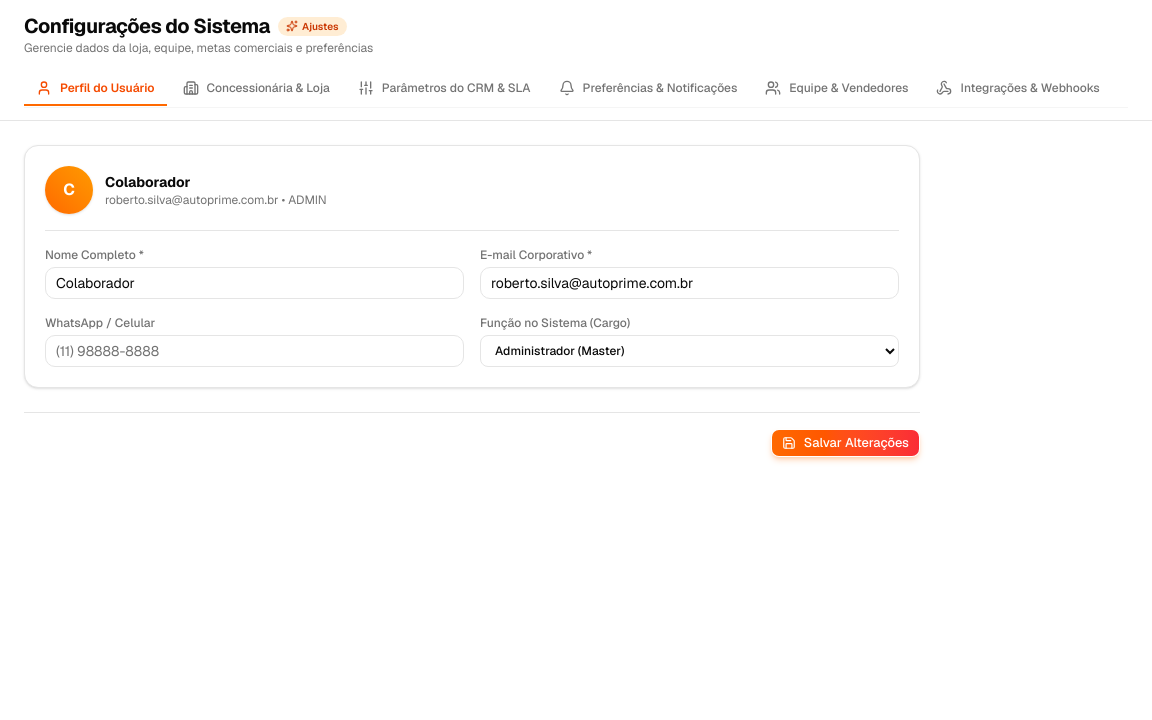
[IT-15] Gestão de Equipe & Controle de Capacidade Multi-Tenant › [IT-15.4] Deve bloquear envio e exibir o modal de upgrade ao tentar exceder a cota
Click the tab "Equipe & Vendedores".
click(837, 89)  # box [753,72,920,106]
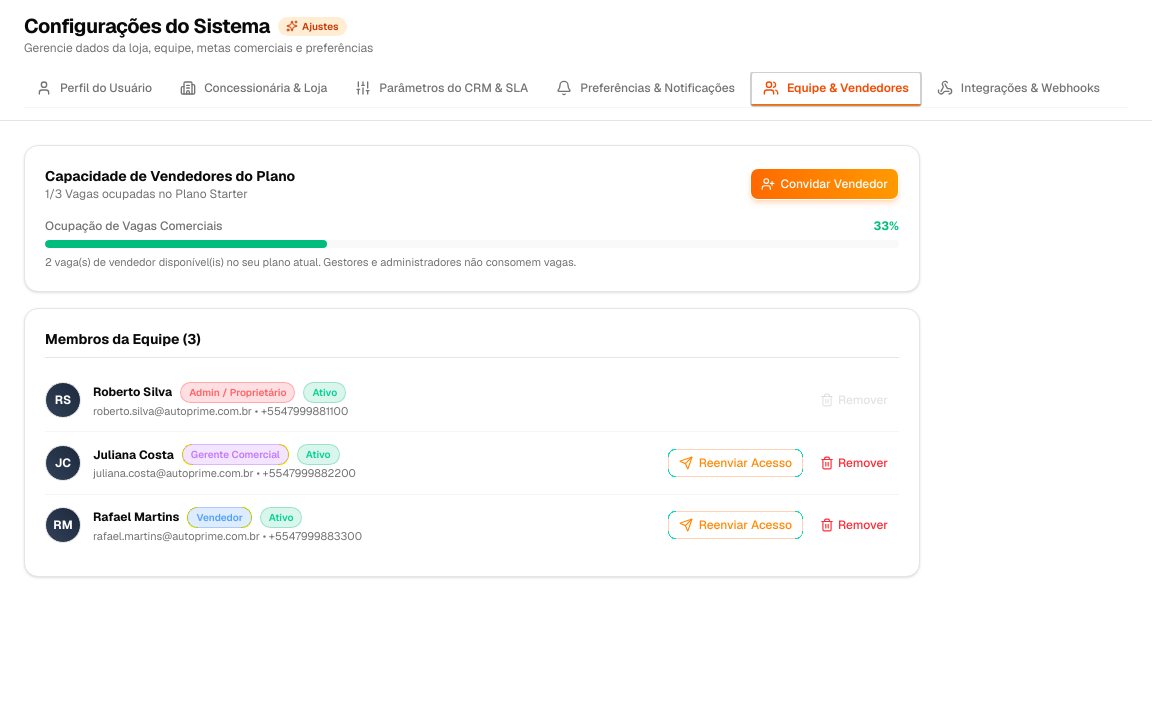
# Act 1 (Abre modal)
Click the button "Convidar Vendedor".
click(824, 184)  # box [750,168,899,200]
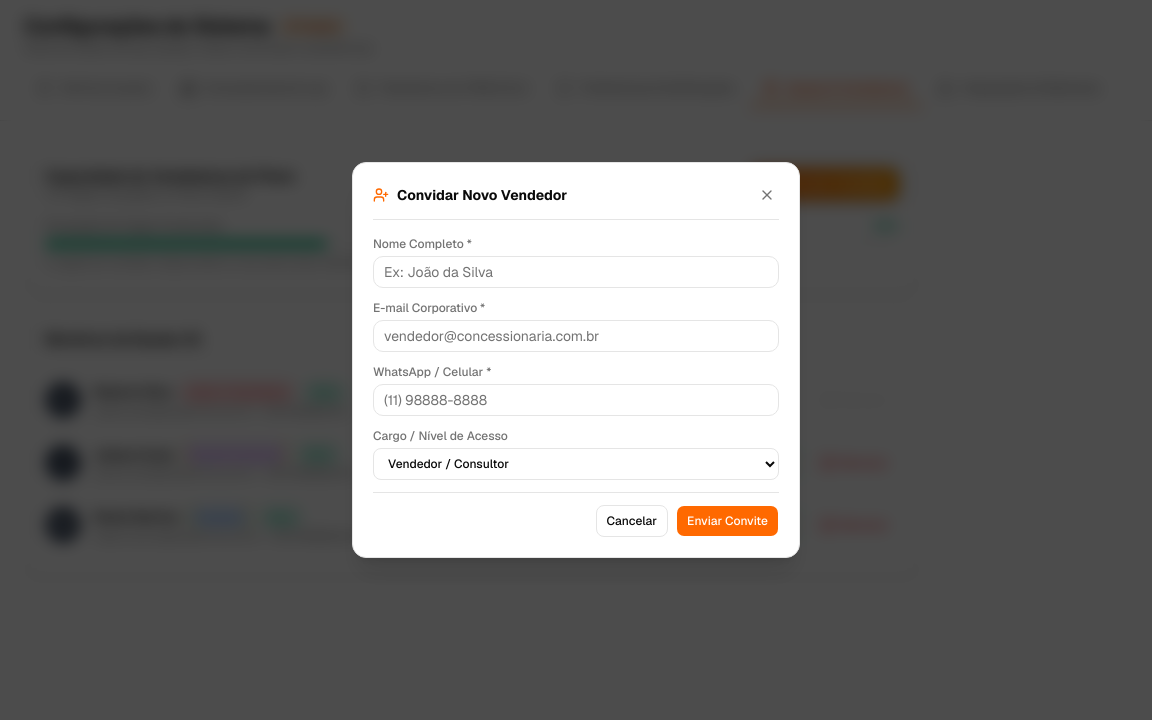
# Preenche dados
Type "Novo Vendedor Extra" into the field labelled "Nome Completo *".
click(576, 272); type("Novo Vendedor Extra")  # box [373,256,779,288]
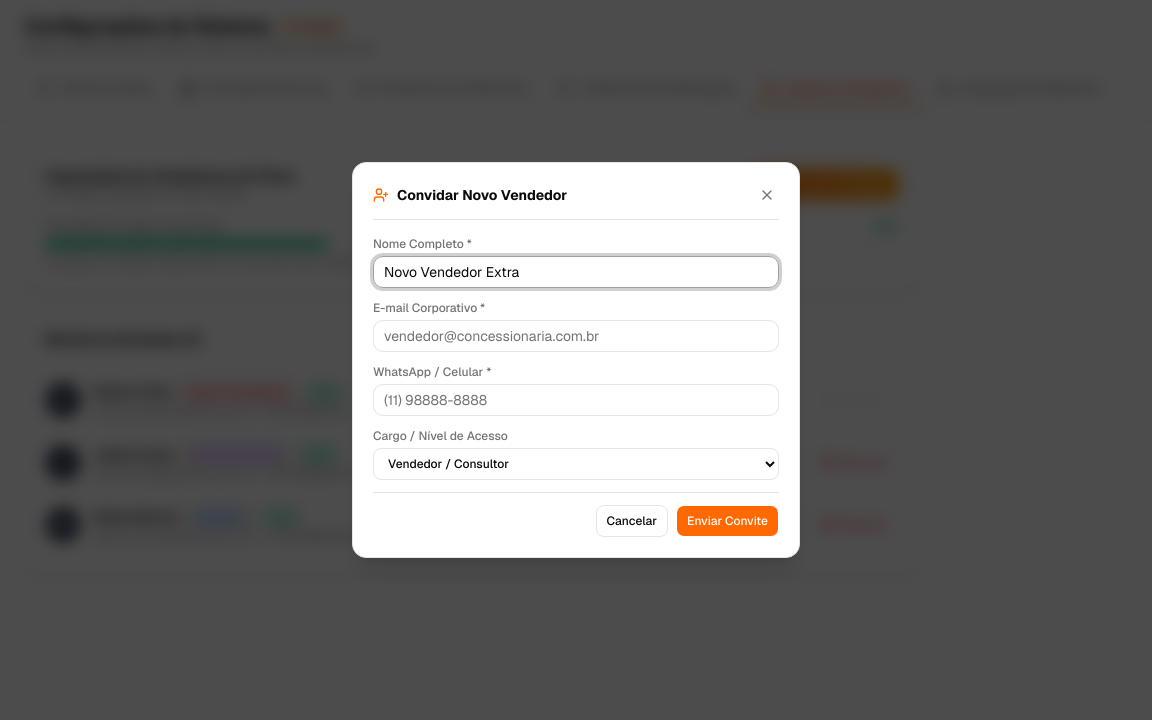
Type "extra@autoprime.com.br" into the field labelled "E-mail Corporativo *".
click(576, 336); type("extra@autoprime.com.br")  # box [373,320,779,352]
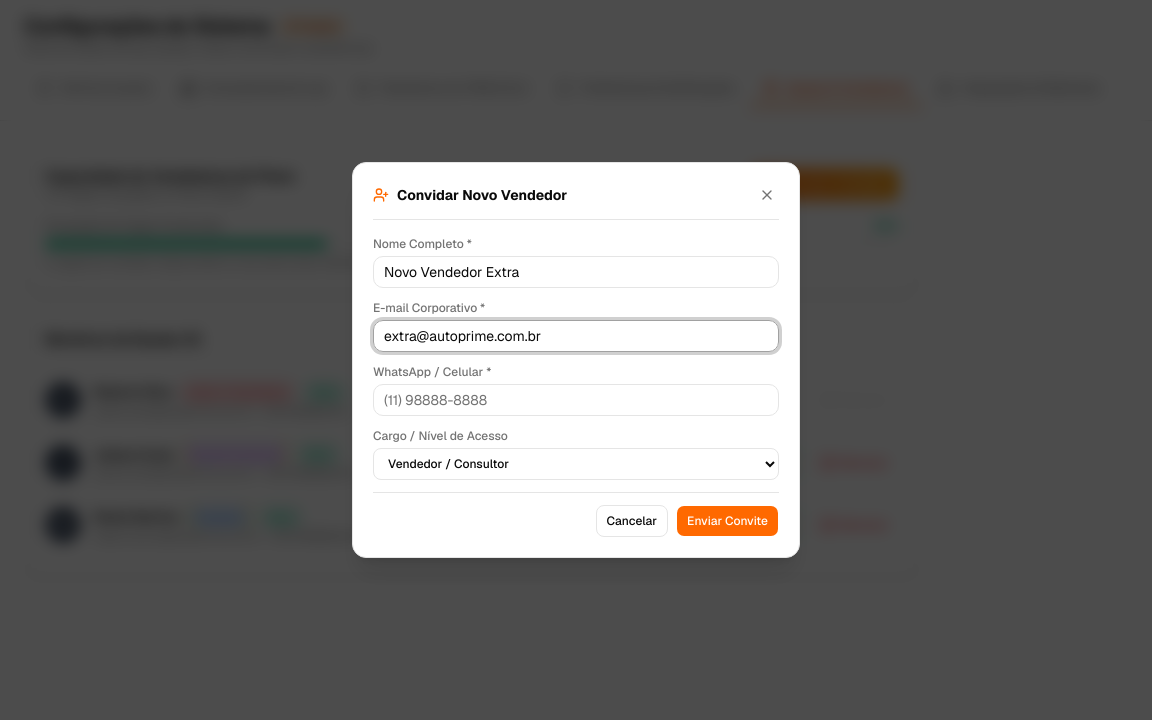
Type "11911112222" into the field labelled "WhatsApp / Celular *".
click(576, 400); type("11911112222")  # box [373,384,779,416]
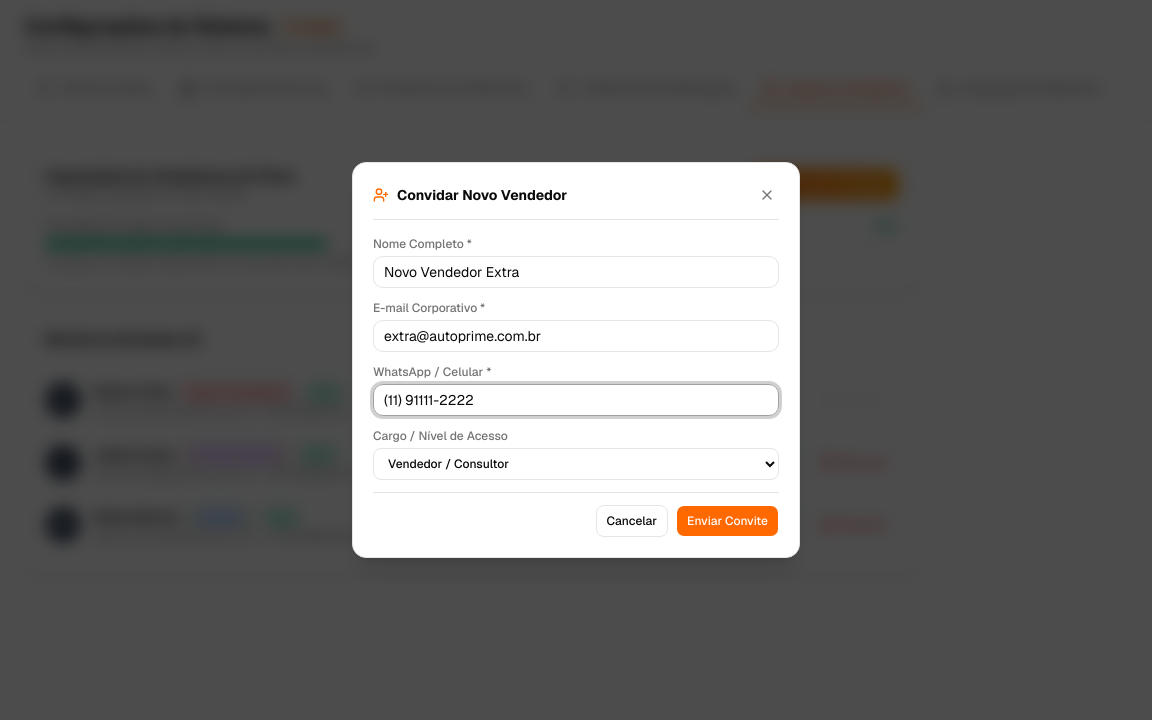
# Act 2 (Submete)
Click the button "Enviar Convite".
click(728, 521)  # box [676,505,779,537]
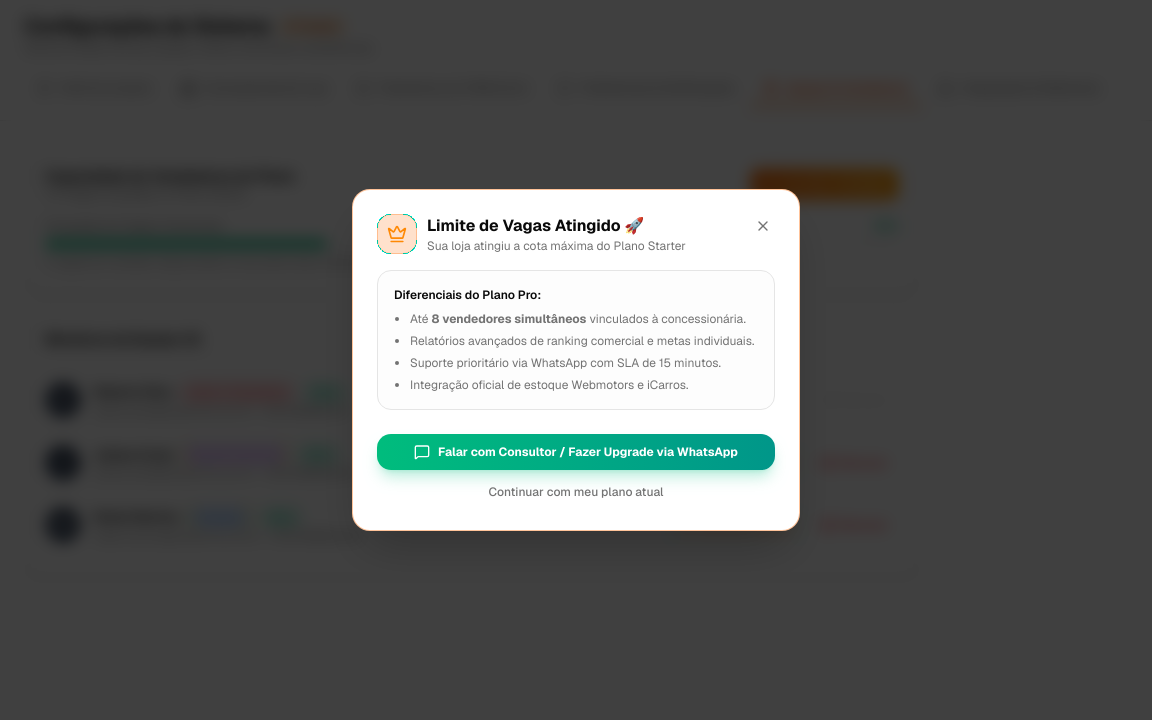
Now the heading "Limite de Vagas Atingido 🚀" is shown, box [427,215,644,236]
Now the text "Diferenciais do Plano Pro:" is shown, box [394,287,541,303]
